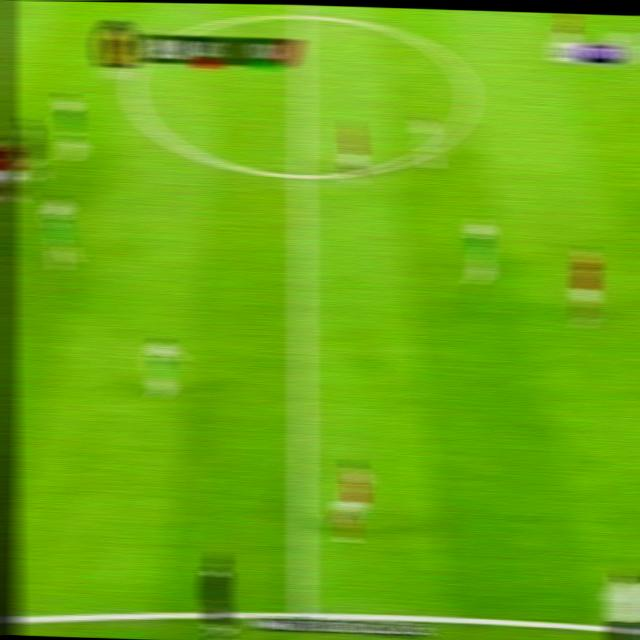halfcircle_bottom: (283, 157, 319, 193)
halfcircle_top: (283, 4, 318, 29)
midline_bottom_intersection: (283, 593, 322, 623)
